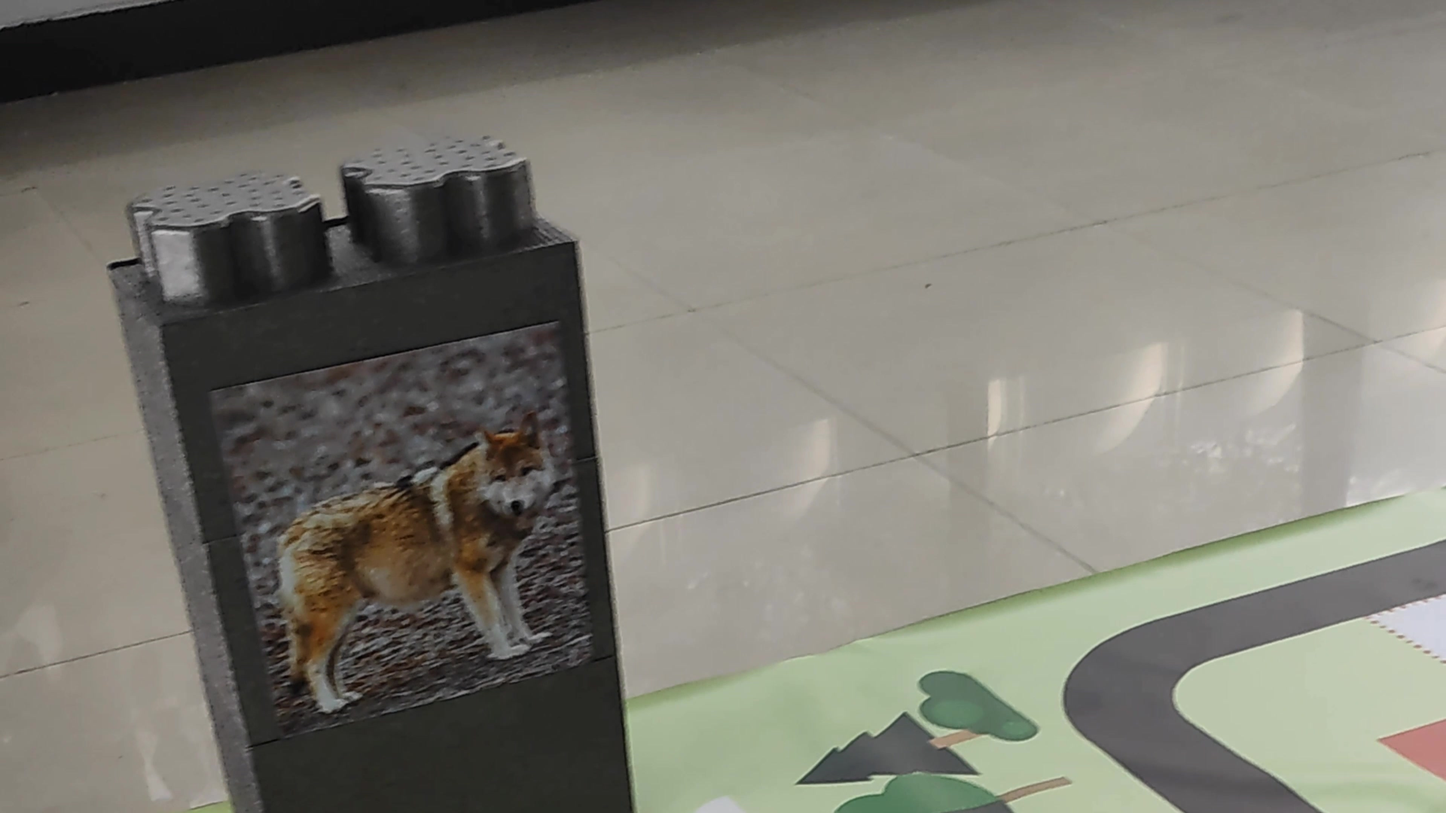wolf: (270, 397, 554, 694)
